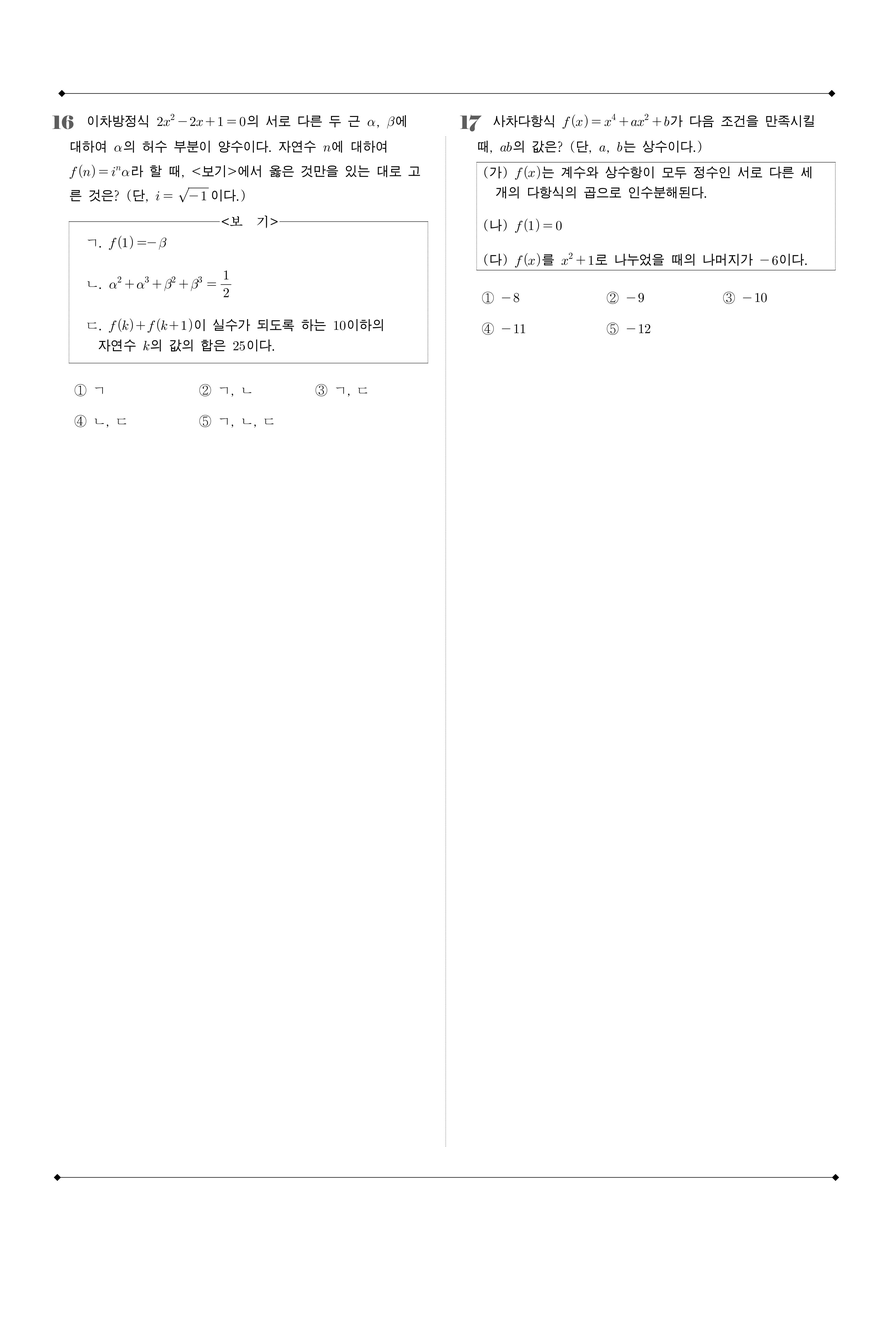problem: (43, 101, 436, 446), (448, 106, 841, 350)
